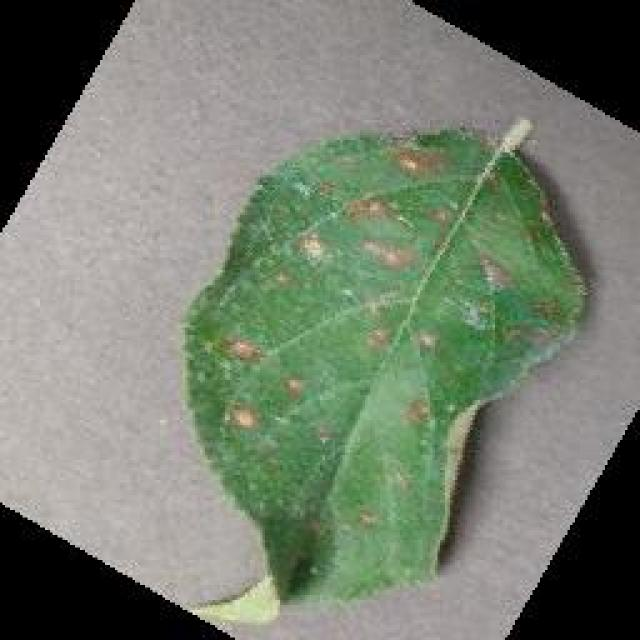apple rust disease: (178, 115, 590, 615)
